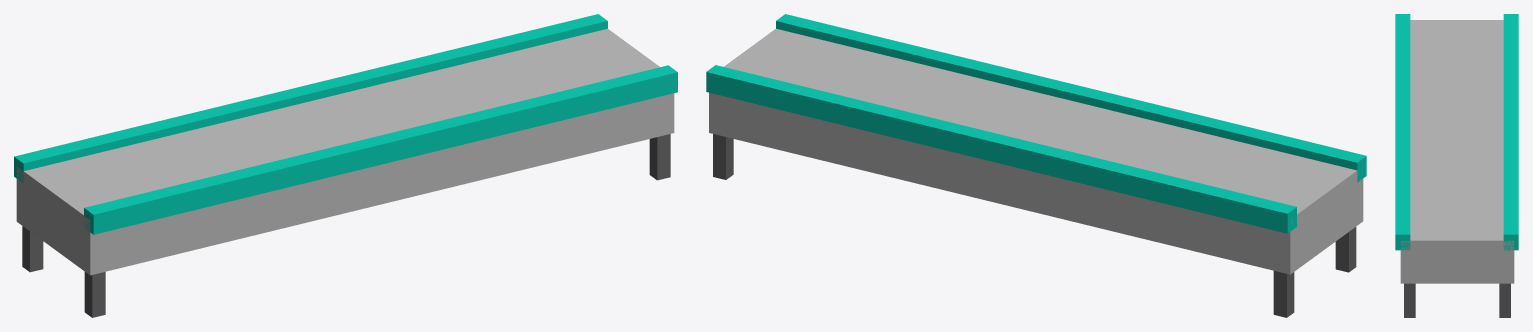
3 views of the same model, side by side, from view 1: azimuth 30°, elevation 25°; view 2: azimuth 150°, elevation 25°; view 3: azimuth 270°, elevation 25° (orthographic). The views are drawn at different scales.
Parts seen in each view (by area): view 1: Cube, Cube.002, Cube.001, Cube.006, Cube.003, Cube.005; view 2: Cube, Cube.001, Cube.002, Cube.005, Cube.004, Cube.006; view 3: Cube, Cube.002, Cube.001, Cube.004, Cube.003.
Part boxes in pixels (box(x1,y1,x2,y2)): Cube: box(16, 28, 674, 275); Cube.002: box(84, 65, 677, 234); Cube.001: box(14, 14, 607, 183); Cube.006: box(84, 272, 105, 317); Cube.003: box(649, 134, 670, 180); Cube.005: box(22, 226, 43, 272); Cube: box(709, 28, 1363, 274); Cube.001: box(706, 65, 1296, 233); Cube.002: box(776, 14, 1366, 182); Cube.005: box(1273, 271, 1294, 317); Cube.004: box(713, 134, 733, 179); Cube.006: box(1335, 227, 1356, 272); Cube: box(1400, 20, 1514, 283); Cube.002: box(1395, 14, 1410, 250); Cube.001: box(1503, 14, 1518, 250); Cube.004: box(1499, 283, 1510, 317); Cube.003: box(1404, 283, 1415, 317).
Bounding box in the file's own units: 919 × 163 × 217.
